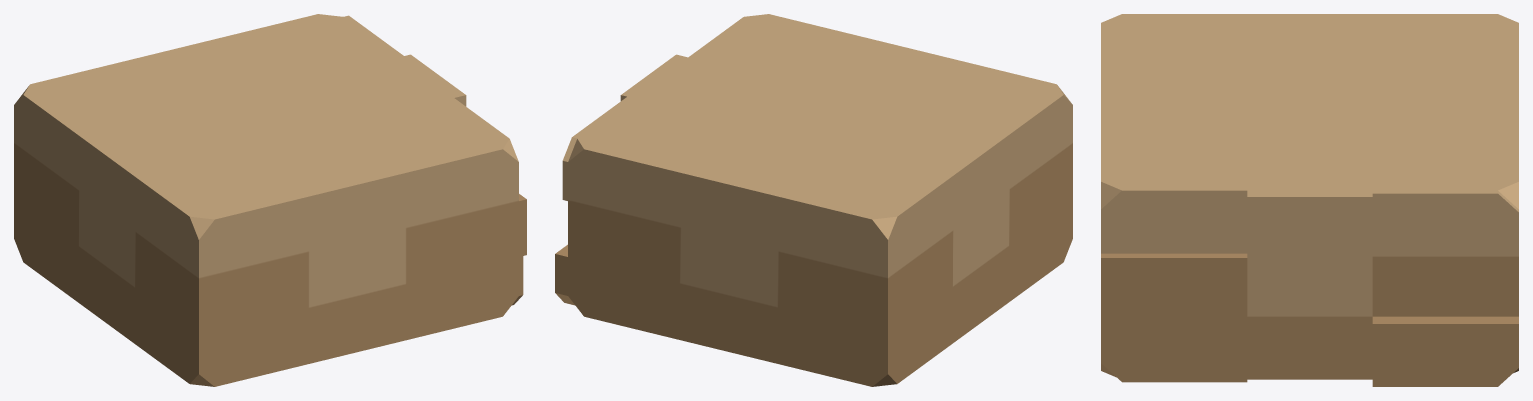
File: Platform_Temple_01.fbx
3 views of the same model, side by side, from view 1: azimuth 30°, elevation 25°; view 2: azimuth 150°, elevation 25°; view 3: azimuth 270°, elevation 25° (orthographic). The views are drawn at different scales.
Parts seen in each view (by area): view 1: Temple_01; view 2: Temple_01; view 3: Temple_01.
Part boxes in pixels (x1,y1,x2,y2): Temple_01: [14, 14, 526, 386]; Temple_01: [555, 14, 1072, 386]; Temple_01: [1101, 14, 1518, 386].
Size of the model in its own units: 81.95 by 39.37 by 78.74.
1 material, 1 textured.
